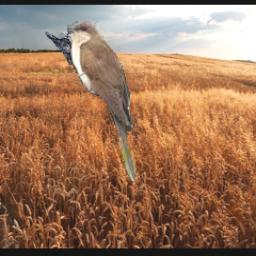Crow: (45, 32, 77, 66)
Cuckoo: (65, 21, 135, 181)
